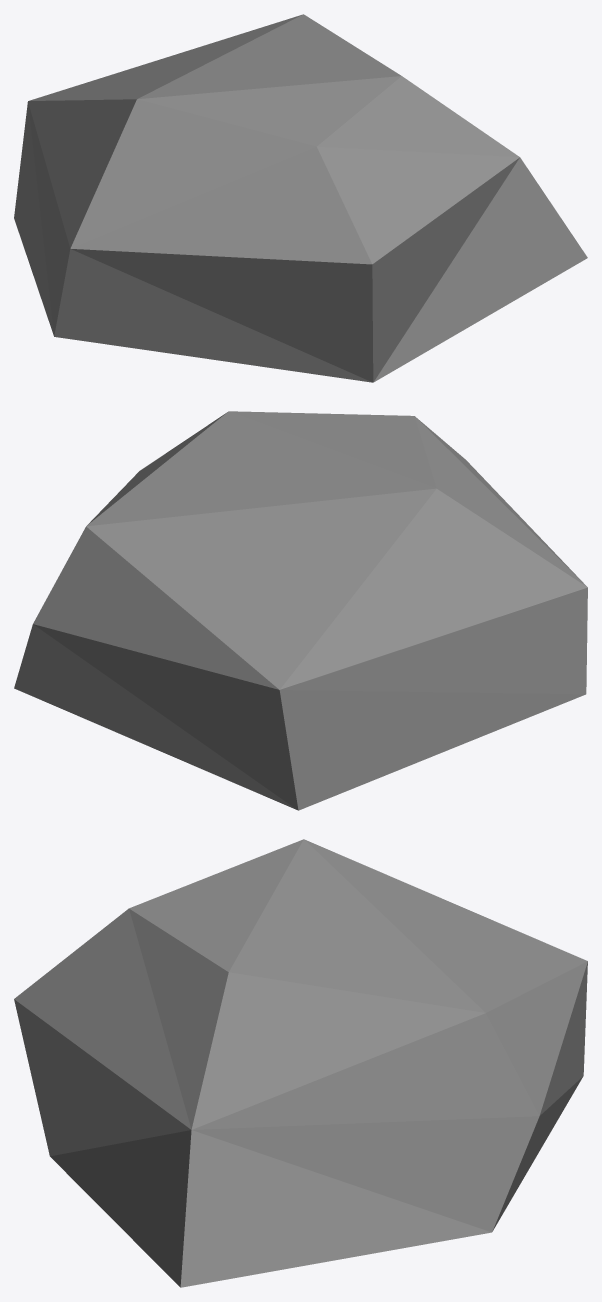
The model's file is MiddleRock.fbx.
3 views of the same model, one above another, from view 1: azimuth 30°, elevation 25°; view 2: azimuth 150°, elevation 25°; view 3: azimuth 270°, elevation 25° (orthographic). The views are drawn at different scales.
Parts seen in each view (by area): view 1: Flat_Rock_01__1___1_; view 2: Flat_Rock_01__1___1_; view 3: Flat_Rock_01__1___1_.
Boxes of the visible parts, bbox=[...] form: Flat_Rock_01__1___1_: bbox=[14, 14, 587, 382]; Flat_Rock_01__1___1_: bbox=[14, 411, 587, 810]; Flat_Rock_01__1___1_: bbox=[14, 839, 587, 1287].
Size of the model in its own units: 222 by 95.61 by 197.
Materials: 1 (1 with a texture image).
